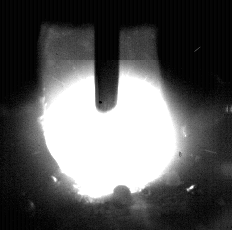arame: (95, 0, 120, 114)
poca: (41, 0, 177, 230)
